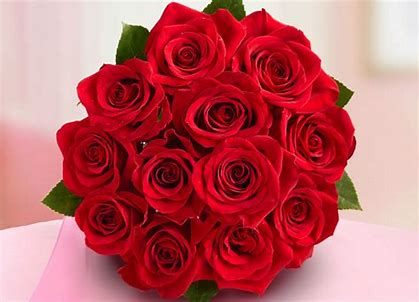inorganic: (59, 1, 369, 288)
